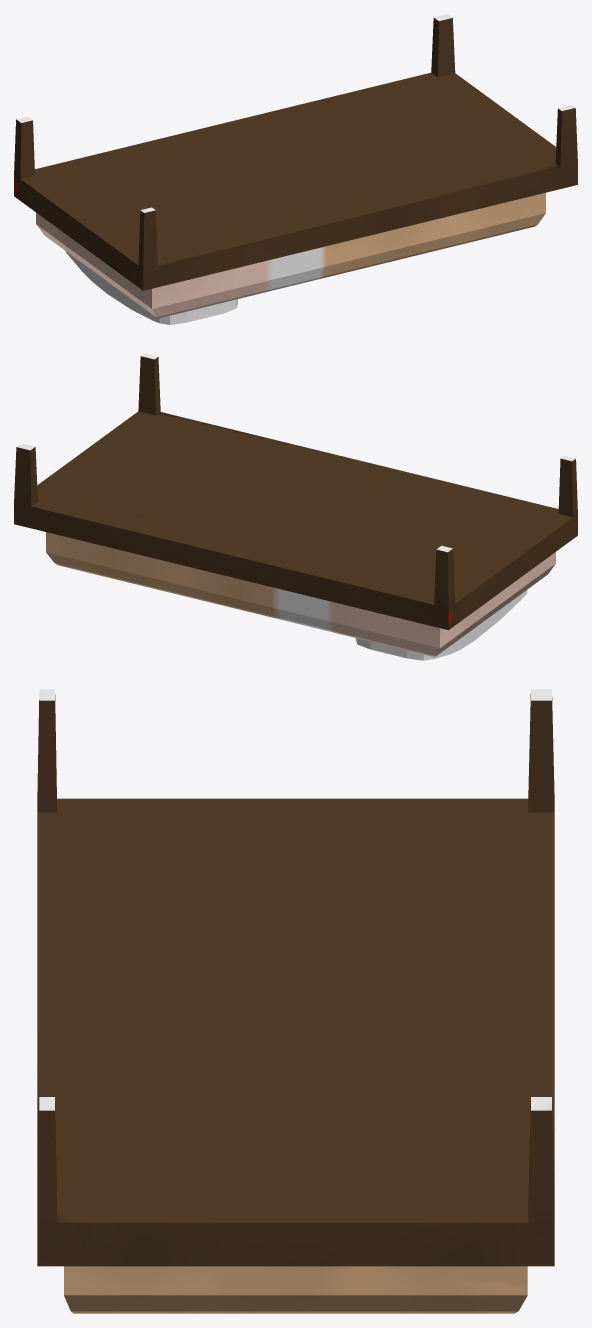
Rendered from cama.obj.
3 renders of one model, top to bottom at view 1: azimuth 30°, elevation 25°; view 2: azimuth 150°, elevation 25°; view 3: azimuth 270°, elevation 25°, orthographic. The views are drawn at different scales.
Parts seen in each view (by area): view 1: Cube.001; view 2: Cube.001; view 3: Cube.001.
Part boxes in pixels (left/top/right/bottom): Cube.001: left=14, top=14, right=577, bottom=324; Cube.001: left=14, top=353, right=577, bottom=660; Cube.001: left=37, top=689, right=554, bottom=1313.
Bounding box in the file's own units: 68.09 × 21.03 × 35.08.
